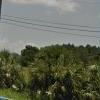Tree: (32, 50, 100, 100)
